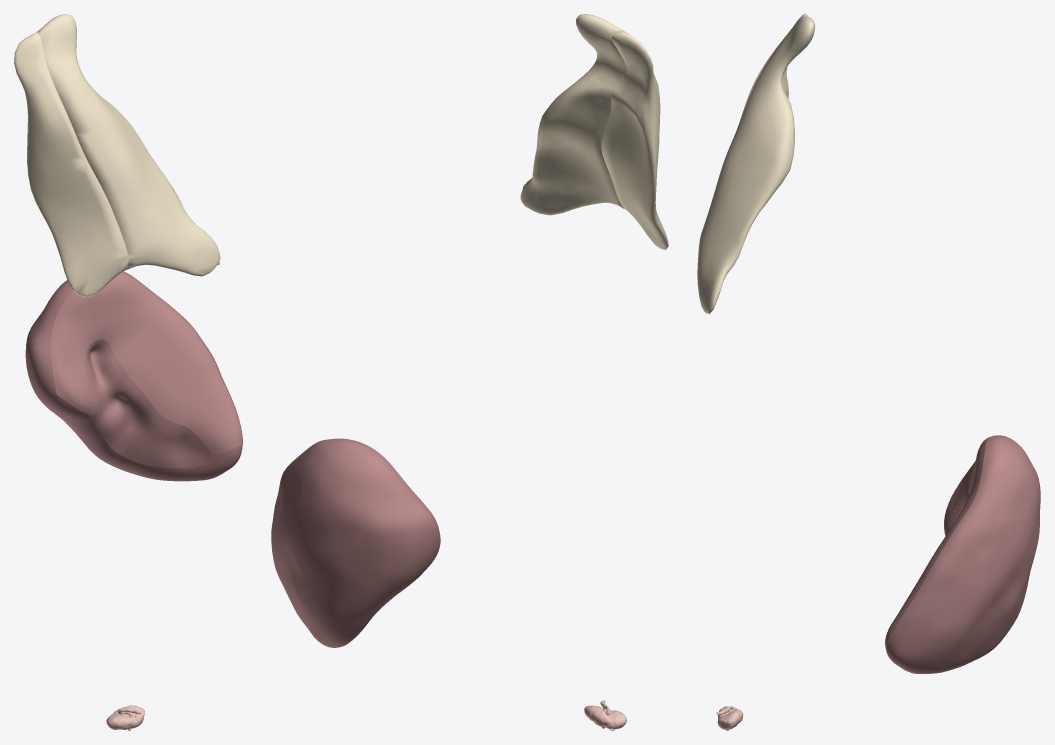
The model's file is female-lymphatic.glb.
The picture shows the model from 3 angles, left to right: view 1: azimuth 30°, elevation 25°; view 2: azimuth 150°, elevation 25°; view 3: azimuth 270°, elevation 25°; orthographic projection. The views are drawn at different scales.
Parts seen in each view (by area): view 1: VH_F_gastric_surface_of_spleen, VH_F_thymus_lobe_L, VH_F_thymus_lobe_R, VH_F_hilum_of_spleen, VH_F_diaphragmatic_surface_of_spleen, VH_F_renal_surface_of_spleen, VH_F_colic_surface_of_spleen, Yao_capsule_of_lymph_node; view 2: VH_F_diaphragmatic_surface_of_spleen, VH_F_thymus_lobe_L, VH_F_thymus_lobe_R, Yao_capsule_of_lymph_node; view 3: VH_F_diaphragmatic_surface_of_spleen, VH_F_thymus_lobe_L, VH_F_gastric_surface_of_spleen.
Part boxes in pixels (<box>): VH_F_gastric_surface_of_spleen: <box>51,278,242,454</box>; VH_F_thymus_lobe_L: <box>37,14,220,276</box>; VH_F_thymus_lobe_R: <box>14,32,128,296</box>; VH_F_hilum_of_spleen: <box>85,339,211,468</box>; VH_F_diaphragmatic_surface_of_spleen: <box>25,271,242,481</box>; VH_F_renal_surface_of_spleen: <box>46,395,210,481</box>; VH_F_colic_surface_of_spleen: <box>204,445,242,478</box>; Yao_capsule_of_lymph_node: <box>106,705,144,729</box>; VH_F_diaphragmatic_surface_of_spleen: <box>271,438,440,647</box>; VH_F_thymus_lobe_L: <box>520,14,626,215</box>; VH_F_thymus_lobe_R: <box>601,30,668,249</box>; Yao_capsule_of_lymph_node: <box>584,705,626,729</box>; VH_F_diaphragmatic_surface_of_spleen: <box>887,435,1040,673</box>; VH_F_thymus_lobe_L: <box>697,16,815,314</box>; VH_F_gastric_surface_of_spleen: <box>885,438,987,642</box>.
Bounding box in the file's own units: 0.147 × 0.3508 × 0.1565.
